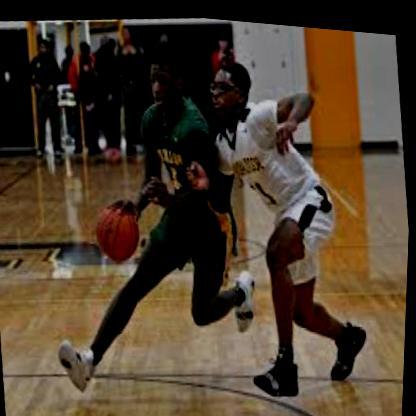basketball: (94, 195, 146, 263)
